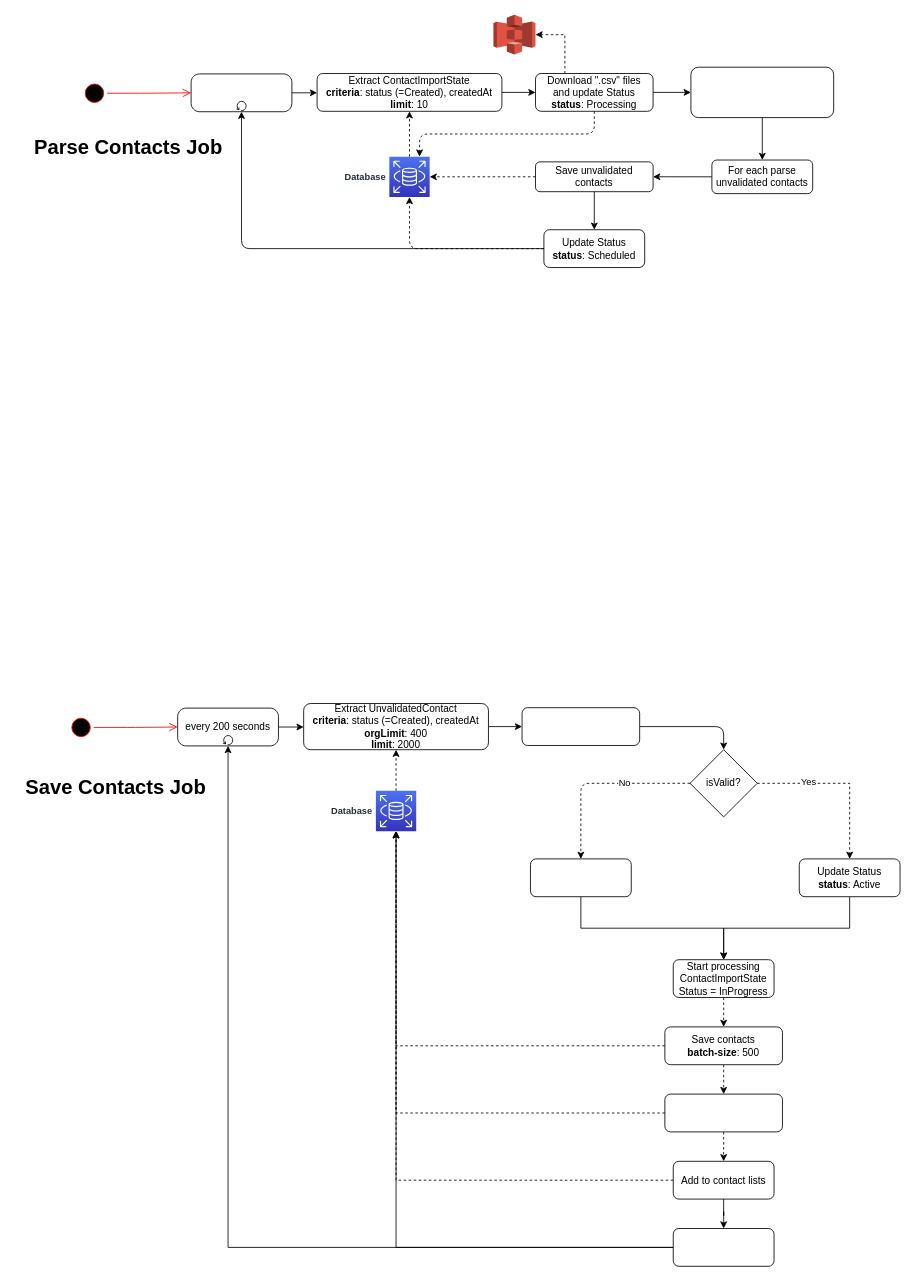
Image size: 915x1281. Some labels were removed from this diagram. Each missing label, with the centre of its shape:
"every 100 seconds" belongs at (x=241, y=92).
"Extract ContactImportState criteria : status (=Processing), createdAt limit : 10" belongs at (x=762, y=92).
"Finish processing ContactImportState Status = Completed" belongs at (x=723, y=1247).
"S3" belongs at (x=514, y=34).
"Update existing criteria : phoneNumber" belongs at (x=723, y=1112).
"Update Status and failReason status : Invalid" belongs at (x=580, y=877).
"Validate and convert to Contact" belongs at (x=580, y=726).
